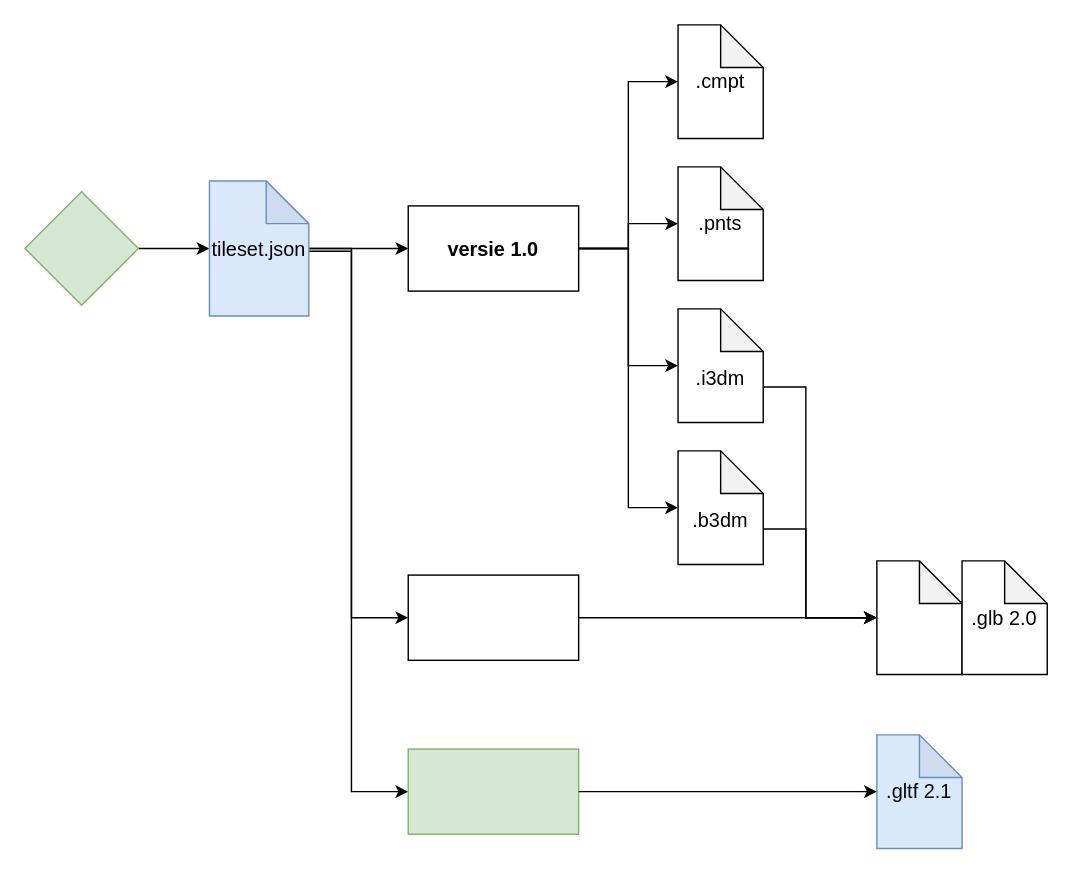
The diagram is 1072 pixels wide and 873 high, and some of its shapes have lost their labels. Here are the shapes that lost their labels. From the top down, the box of each, then its label:
(23, 190, 138, 305): 3D Tiles
(407, 574, 579, 660): versie 1.1
(875, 559, 962, 674): .gltf 2.0
(407, 748, 579, 834): versie 2.0
